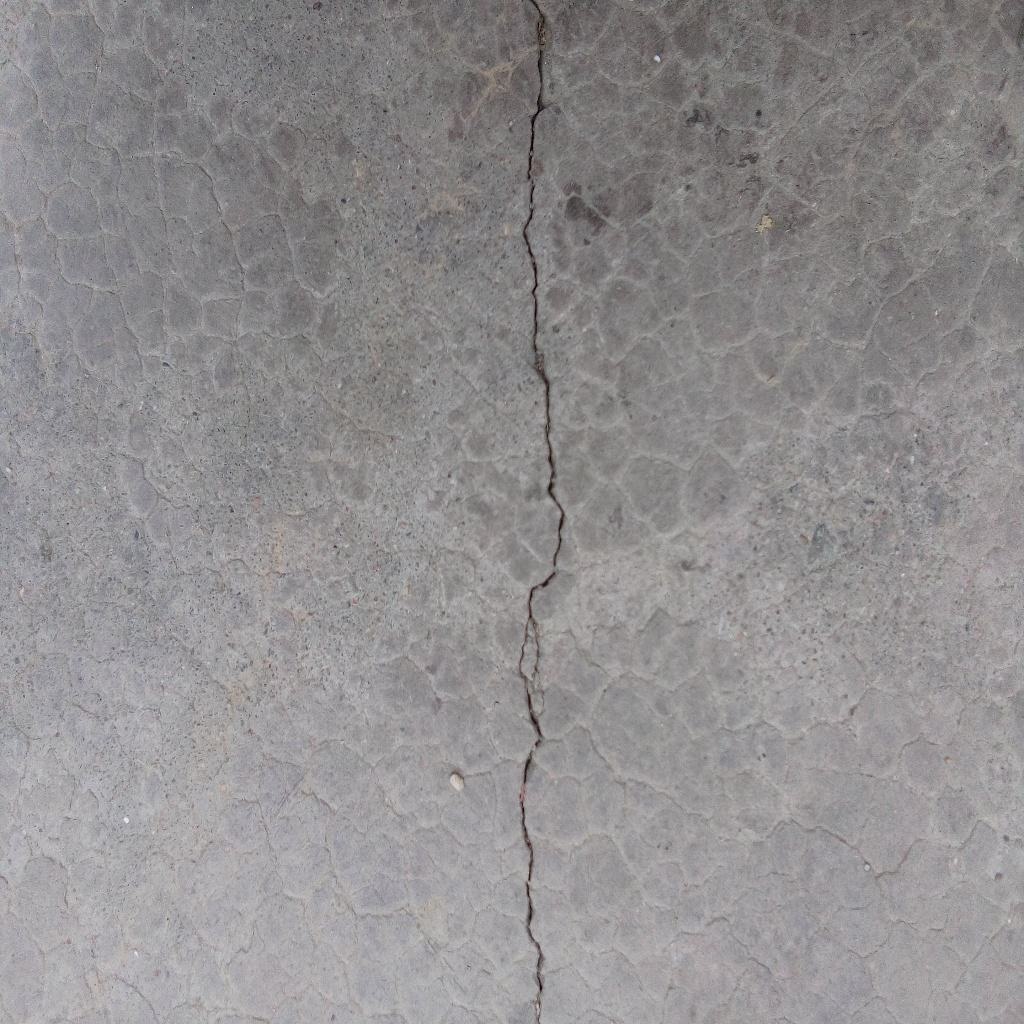Crack: (518, 1, 568, 1024)
